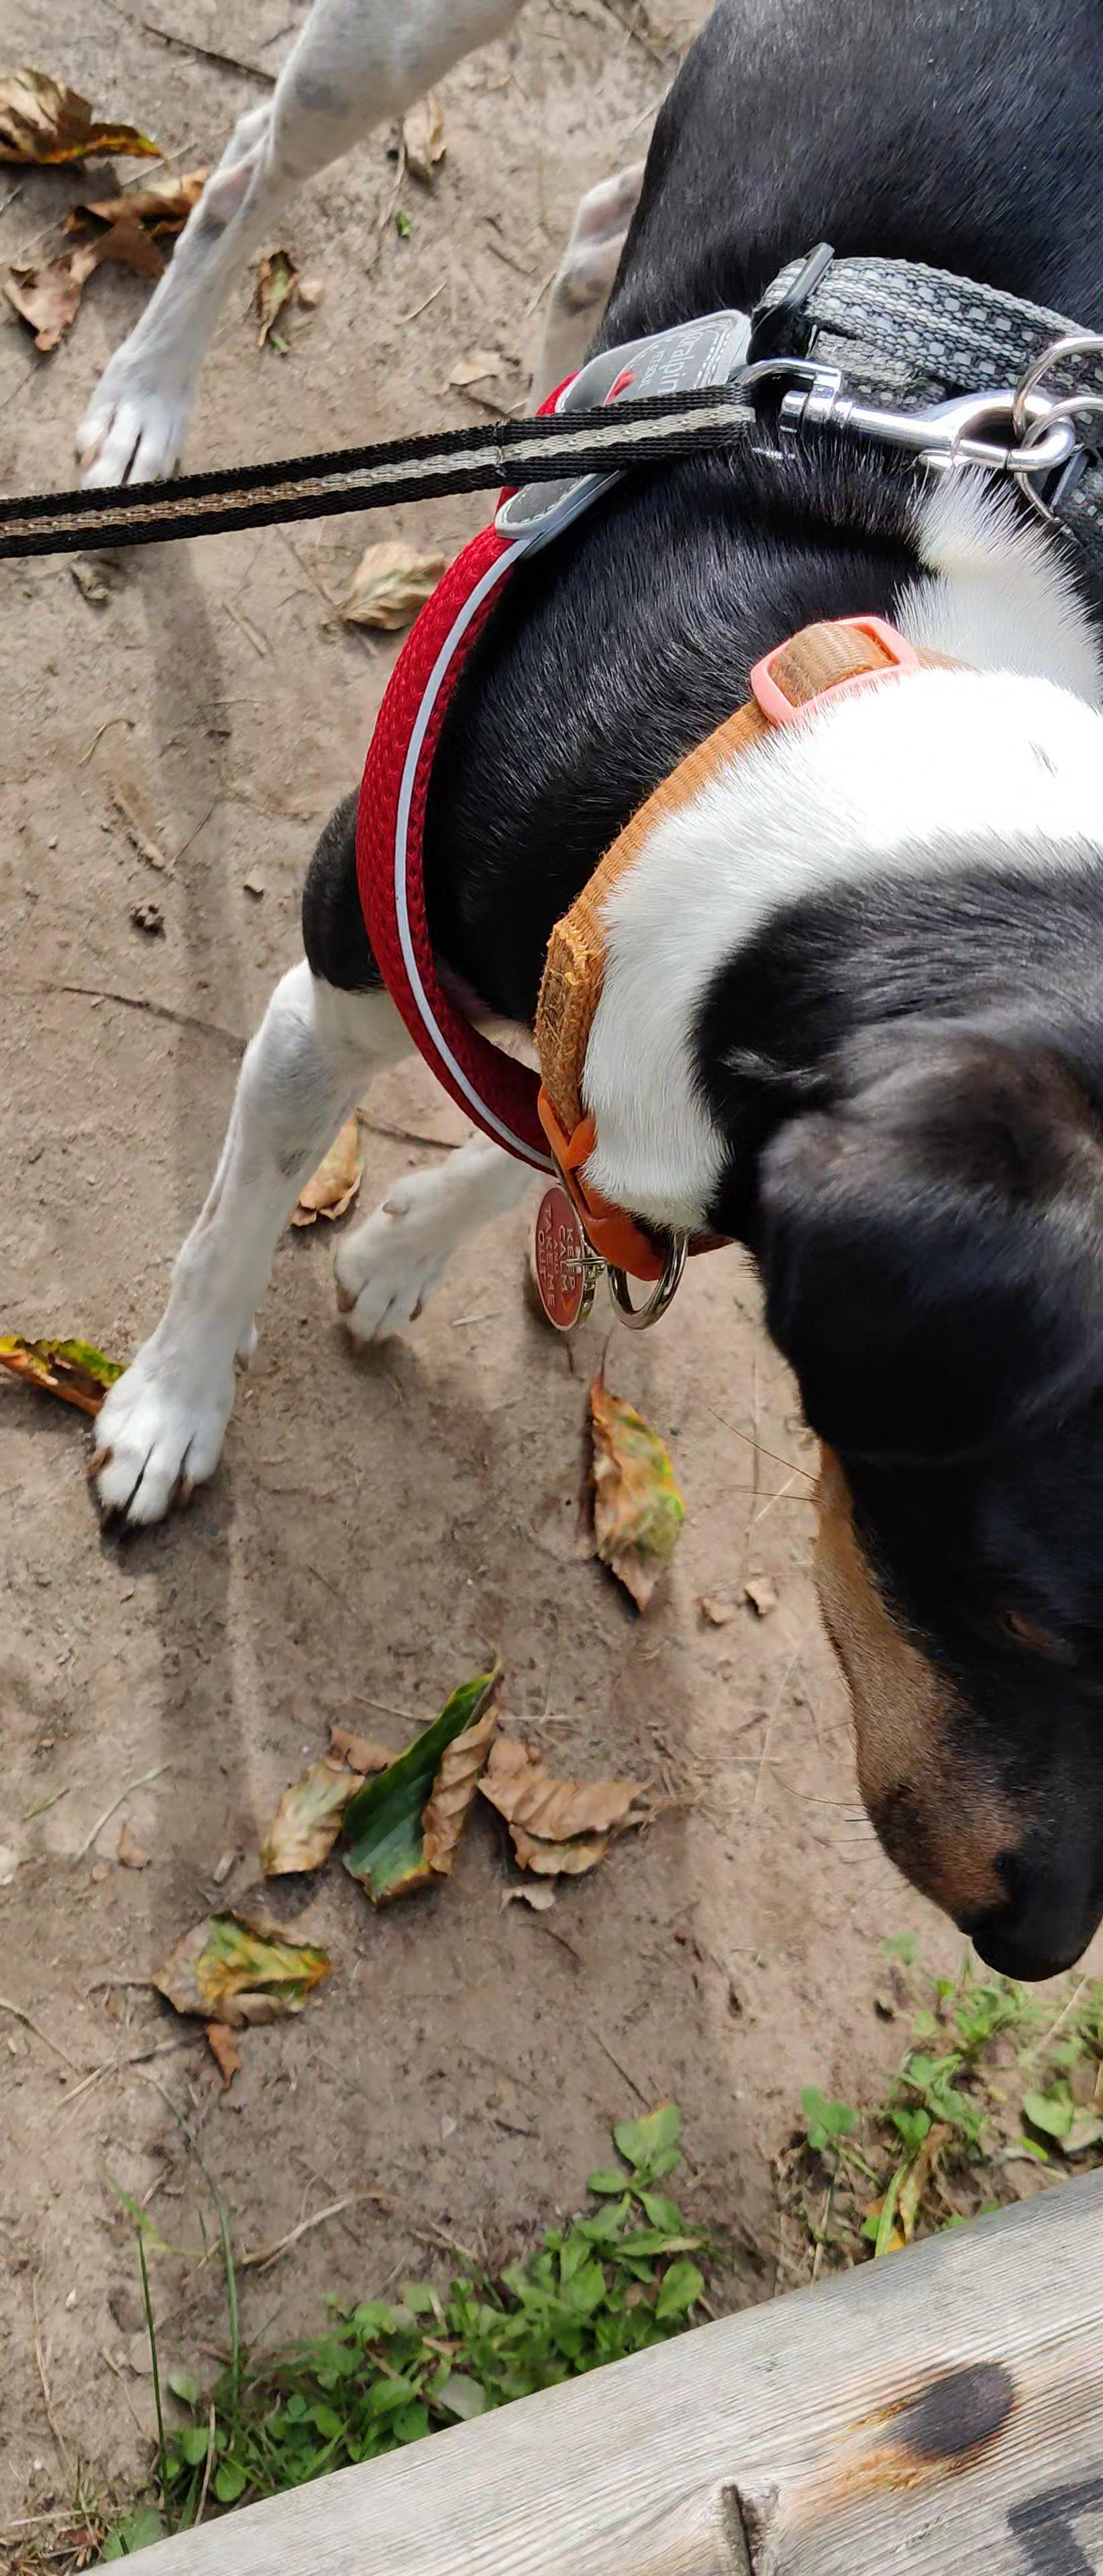Dog: (48, 0, 1103, 1998)
